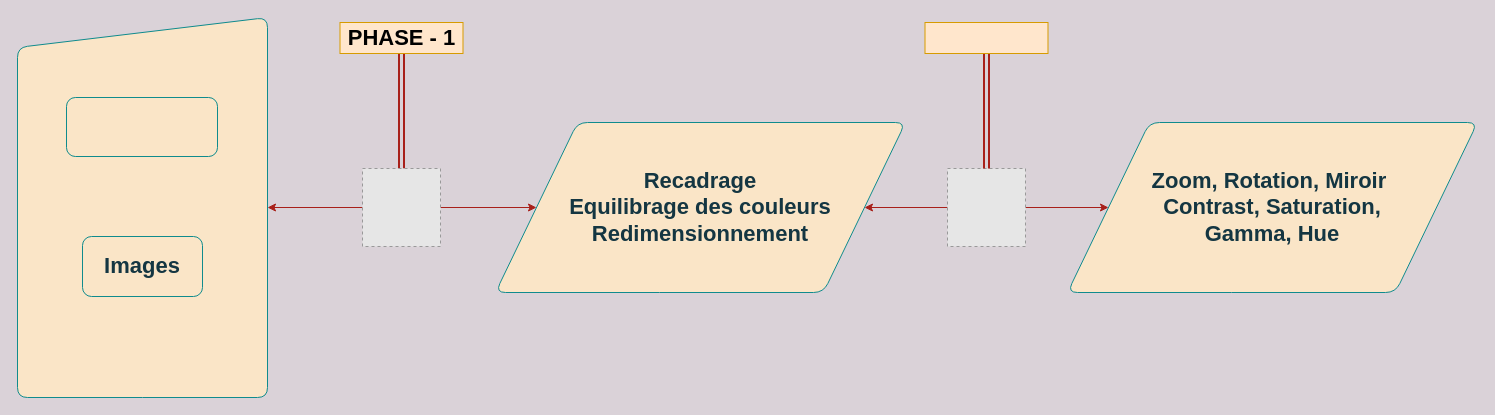
Some shapes in this 1495 by 415 pixel diagram are drawn without their labels. Grey dashed boxes stand in for pictures. Each missing label, with the box of its shape:
Annotations: (66, 96, 218, 156)
PHASE - 2: (924, 22, 1048, 54)
